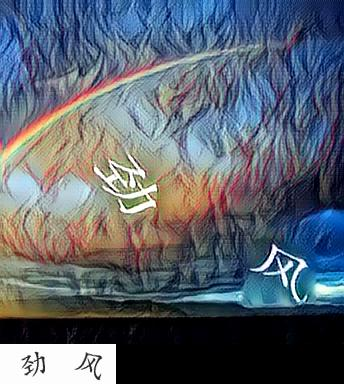character: (89, 149, 165, 218), (247, 239, 314, 309)
